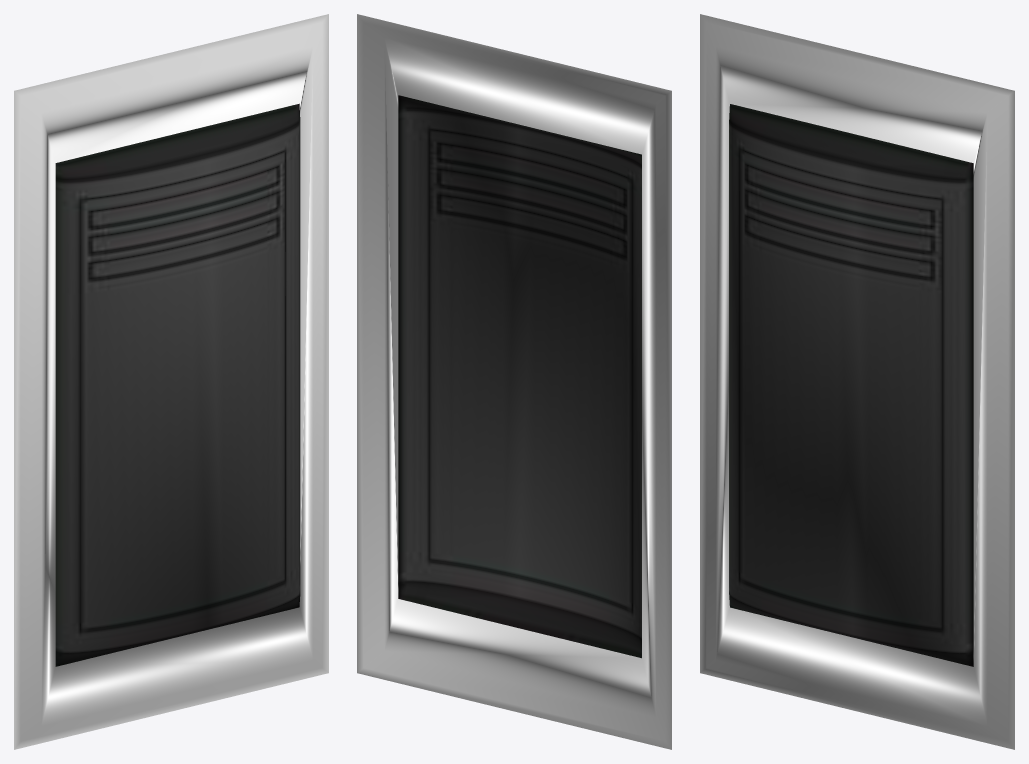
The model's file is light-fixture.obj.
The picture shows the model from 3 angles, left to right: view 1: azimuth 30°, elevation 25°; view 2: azimuth 150°, elevation 25°; view 3: azimuth 330°, elevation 25°; orthographic projection.
Visible parts, largest first — view 1: Mesh1 Component_2_1 Model; view 2: Mesh1 Component_2_1 Model; view 3: Mesh1 Component_2_1 Model.
Boxes of the visible parts, bbox=[...] form: Mesh1 Component_2_1 Model: bbox=[14, 14, 328, 749]; Mesh1 Component_2_1 Model: bbox=[357, 14, 671, 749]; Mesh1 Component_2_1 Model: bbox=[700, 14, 1014, 749].
Size of the model in its own units: 0.913 by 1.83 by 0.1037.
